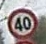limite 40: (5, 7, 39, 39)
